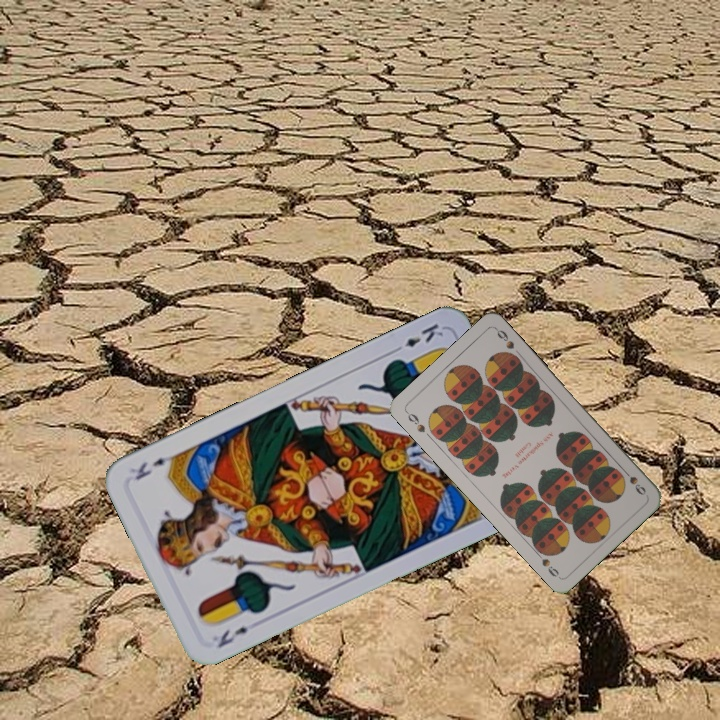EK: (388, 319, 446, 356), (213, 622, 250, 651)
S9: (618, 464, 649, 498), (402, 407, 428, 435)
